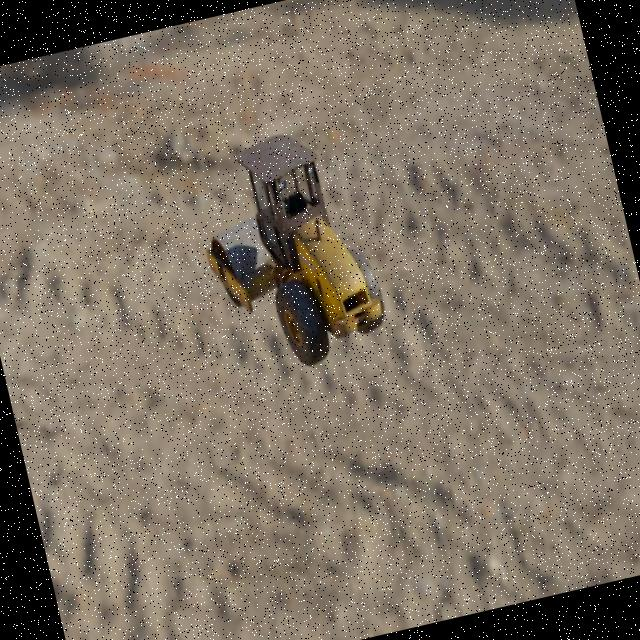Roller: (182, 118, 394, 384)
